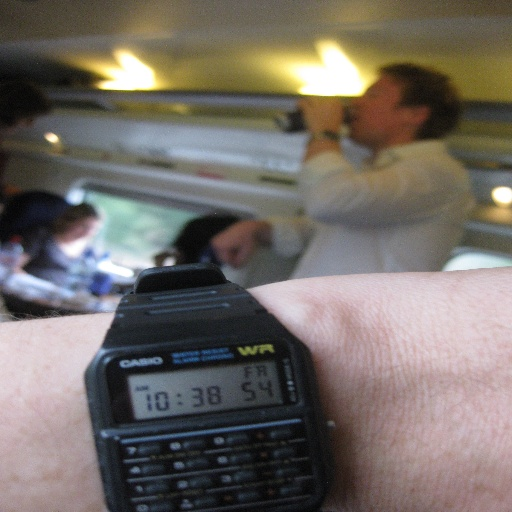hand: (295, 267, 511, 511), (212, 213, 279, 256), (297, 96, 346, 132)
